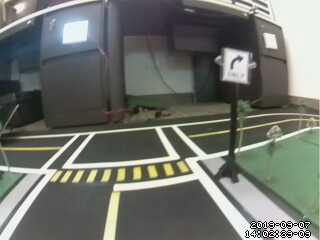Right_only_sign: (219, 48, 250, 90)
